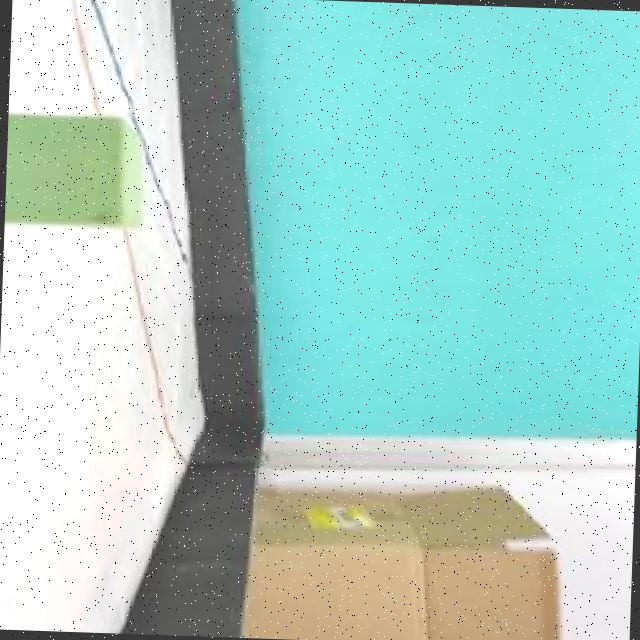greenbox: (3, 109, 152, 232)
